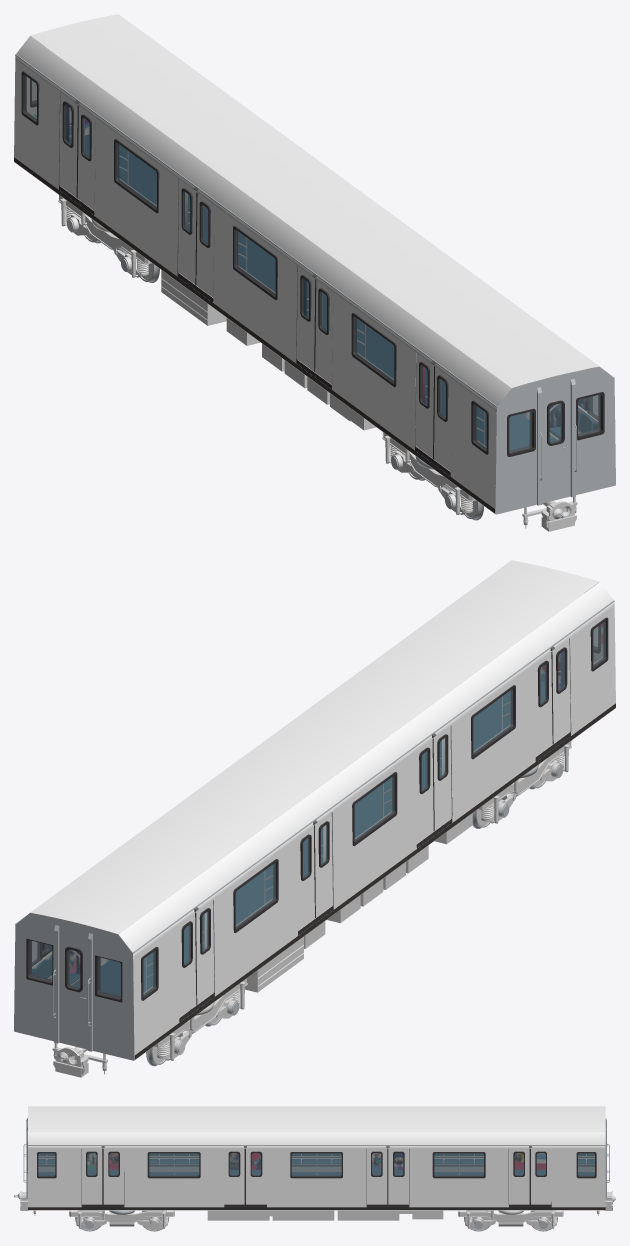
File: car-2.glb
3 renders of one model, top to bottom at view 1: azimuth 30°, elevation 25°; view 2: azimuth 150°, elevation 25°; view 3: azimuth 270°, elevation 25°, orthographic. The views are drawn at different scales.
Parts seen in each view (by area): view 1: Mesh492.030, Mesh589.004, Mesh253.008, Mesh560.004, Mesh524.005, Cube.355, Cube.354, Cube.356, Mesh11.004, Mesh511.004, Mesh31.004, Cube.247 (+8 smaller); view 2: Mesh492.030, Mesh589.004, Mesh584.004, Mesh253.005, Mesh510.005, Cube.356, Cube.355, Cube.354, Mesh11.004, Mesh511.004, Mesh27.004, Cube.236 (+8 smaller); view 3: Mesh492.030, Mesh492.026, Cube.362, Cube.361, Cube.363, Mesh589.004, Mesh5.004, Mesh4.004, Mesh9.004, Mesh256.004, Mesh278.004, Mesh283.004 (+24 smaller).
Part boxes in pixels (x1,y1,x2,y2): Mesh492.030: (14,14,599,514); Mesh589.004: (69,134,556,450); Mesh253.008: (495,376,555,514); Mesh560.004: (555,366,615,499); Mesh524.005: (542,395,570,493); Cube.355: (235,230,275,295); Cube.354: (116,143,156,208); Cube.356: (354,316,394,382); Mesh11.004: (161,270,226,325); Mesh511.004: (15,54,497,407); Mesh31.004: (541,500,576,531); Cube.247: (578,394,600,435); Mesh492.030: (30,560,615,1060); Mesh589.004: (73,681,571,995); Mesh584.004: (74,922,134,1060); Mesh253.005: (14,913,73,1045); Mesh510.005: (59,941,87,1039); Cube.356: (473,689,513,754); Cube.355: (354,775,394,841); Cube.354: (235,862,275,928); Mesh11.004: (245,937,303,992); Mesh511.004: (132,600,614,953); Mesh27.004: (53,1047,88,1077); Cube.236: (29,940,52,981); Mesh492.030: (28,1106,605,1210); Mesh492.026: (87,1153,545,1169); Cube.362: (291,1153,341,1175); Cube.361: (149,1153,199,1175); Cube.363: (434,1153,483,1175); Mesh589.004: (38,1170,594,1175); Mesh5.004: (207,1210,269,1220); Mesh4.004: (337,1210,399,1220); Mesh9.004: (272,1210,334,1220); Mesh256.004: (511,1210,563,1229); Mesh278.004: (122,1210,174,1229); Mesh283.004: (69,1210,121,1229).
Size of the model in its own units: 2.67 by 3.63 by 19.13.
Materials: 58 (1 with a texture image).
